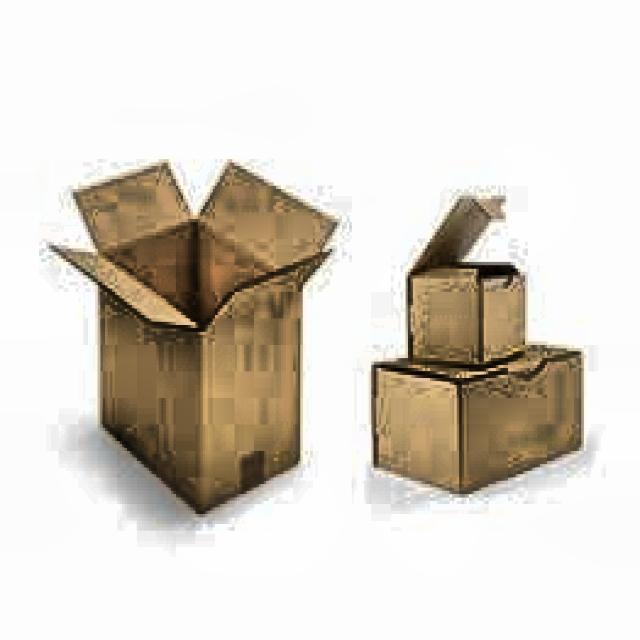cardboard: (46, 156, 340, 514), (369, 189, 584, 494)
